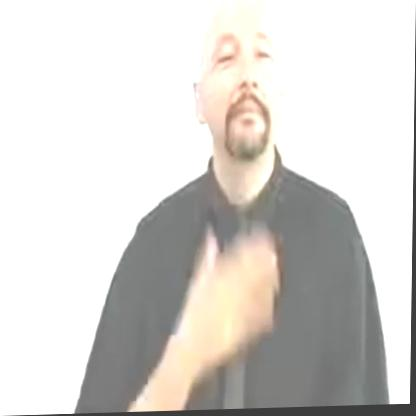ThankYou: (127, 0, 380, 413)
